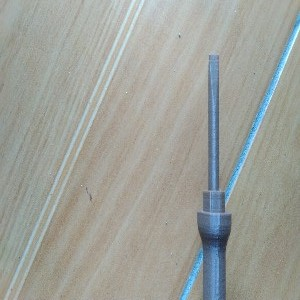obeng: (197, 53, 233, 300)
